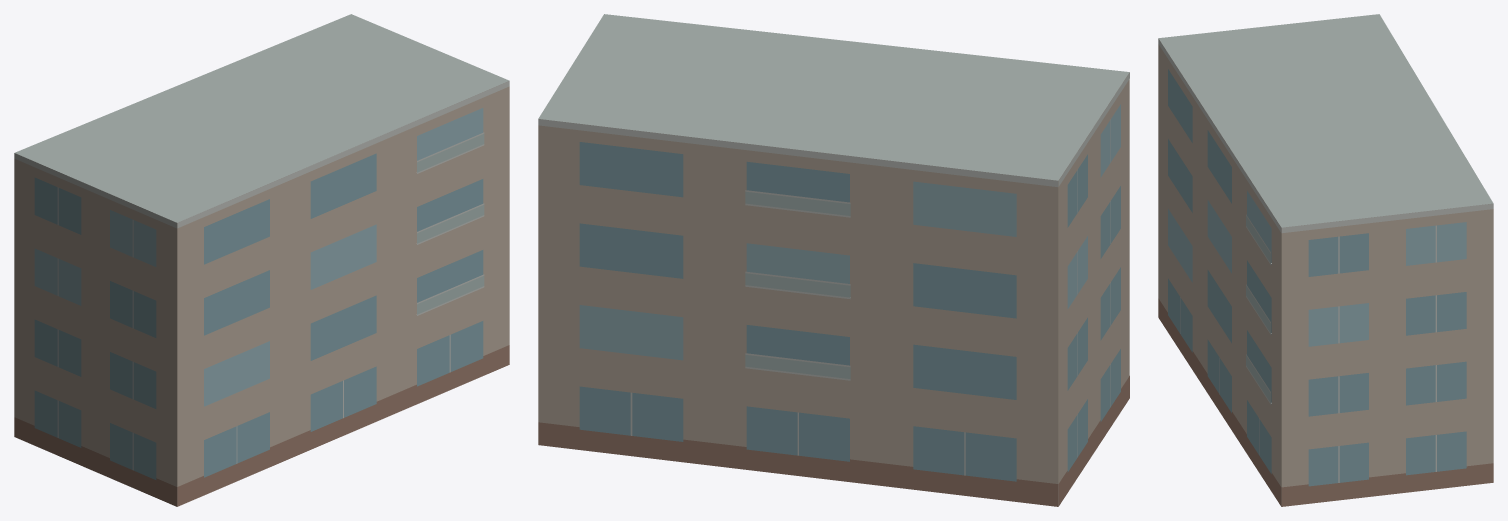
Rendered from survey-upis-32599713.glb.
3 views of the same model, side by side, from view 1: azimuth 30°, elevation 25°; view 2: azimuth 150°, elevation 25°; view 3: azimuth 270°, elevation 25° (orthographic). The views are drawn at different scales.
Visible parts, largest first — view 1: survey-upis-32599713.tmp; view 2: survey-upis-32599713.tmp; view 3: survey-upis-32599713.tmp.
Part boxes in pixels (x1,y1,x2,y2): survey-upis-32599713.tmp: (14,14,509,506); survey-upis-32599713.tmp: (538,14,1129,506); survey-upis-32599713.tmp: (1158,14,1493,506).
Bounding box in the file's own units: 20.03 × 12.2 × 13.29.
